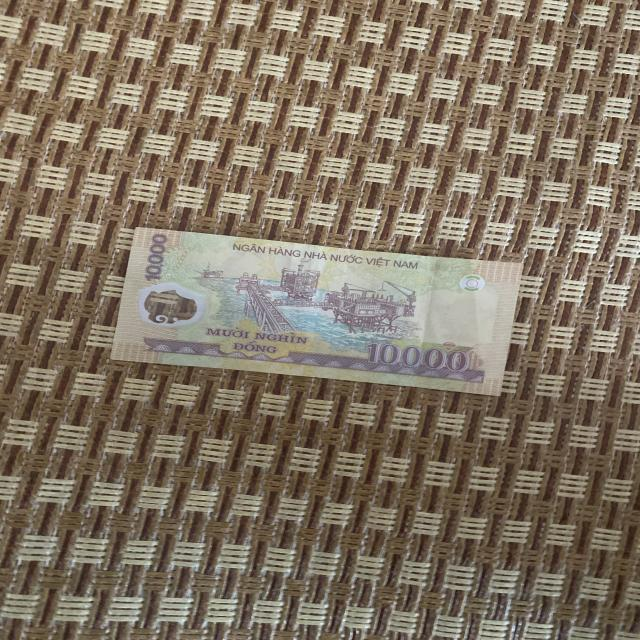10 000 VND: (108, 225, 526, 397)
